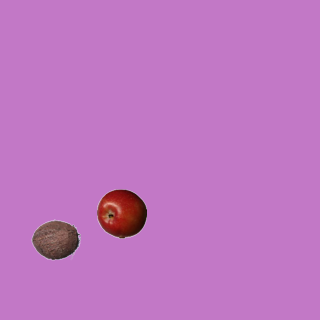Apple Braeburn: (96, 188, 146, 238)
Cocos: (30, 214, 80, 264)
